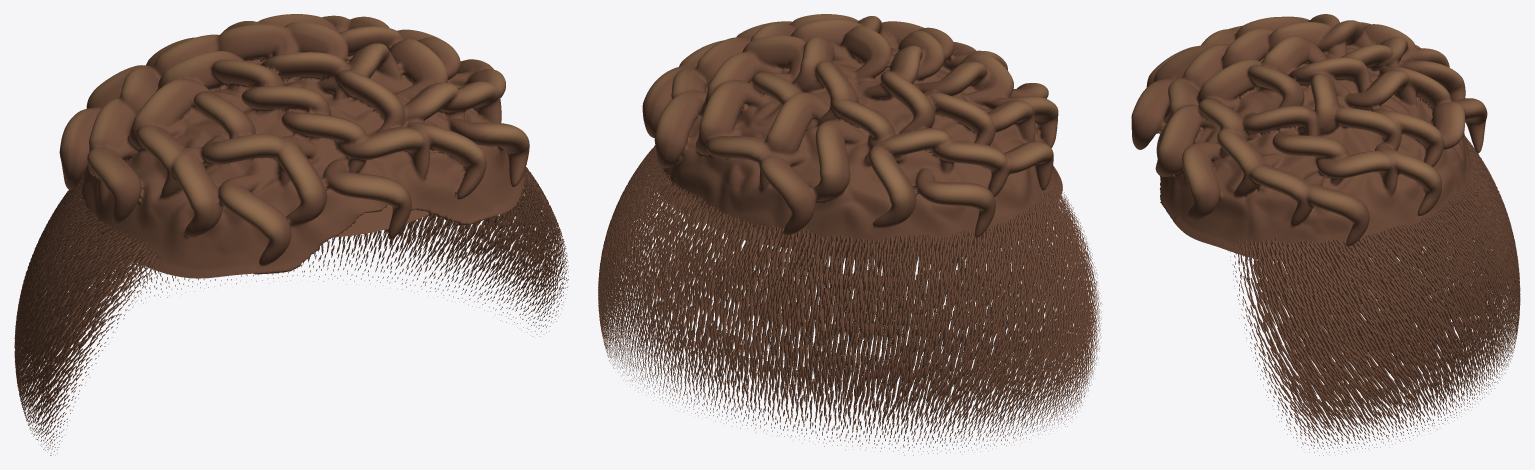
The model's file is Masculine-curly-top-ears254-hair-ombre.glb.
3 views of the same model, side by side, from view 1: azimuth 30°, elevation 25°; view 2: azimuth 150°, elevation 25°; view 3: azimuth 270°, elevation 25° (orthographic). The views are drawn at different scales.
Parts seen in each view (by area): view 1: 226 hair / Hair252 / sculpted curl groups, 226 hair / Hair254 / rooted short groom; view 2: 226 hair / Hair254 / rooted short groom, 226 hair / Hair252 / sculpted curl groups; view 3: 226 hair / Hair252 / sculpted curl groups, 226 hair / Hair254 / rooted short groom.
Part boxes in pixels (<box>): 226 hair / Hair252 / sculpted curl groups: <box>59,14,529,278</box>; 226 hair / Hair254 / rooted short groom: <box>14,167,568,455</box>; 226 hair / Hair254 / rooted short groom: <box>598,145,1102,455</box>; 226 hair / Hair252 / sculpted curl groups: <box>642,14,1062,258</box>; 226 hair / Hair252 / sculpted curl groups: <box>1131,14,1487,260</box>; 226 hair / Hair254 / rooted short groom: <box>1156,135,1520,455</box>.
Bounding box in the file's own units: 0.9716 × 0.6616 × 0.7501.
